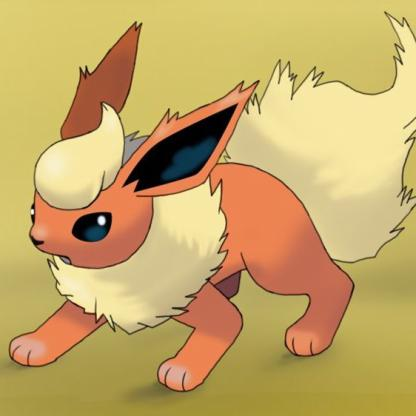Flareon: (19, 26, 416, 391)
